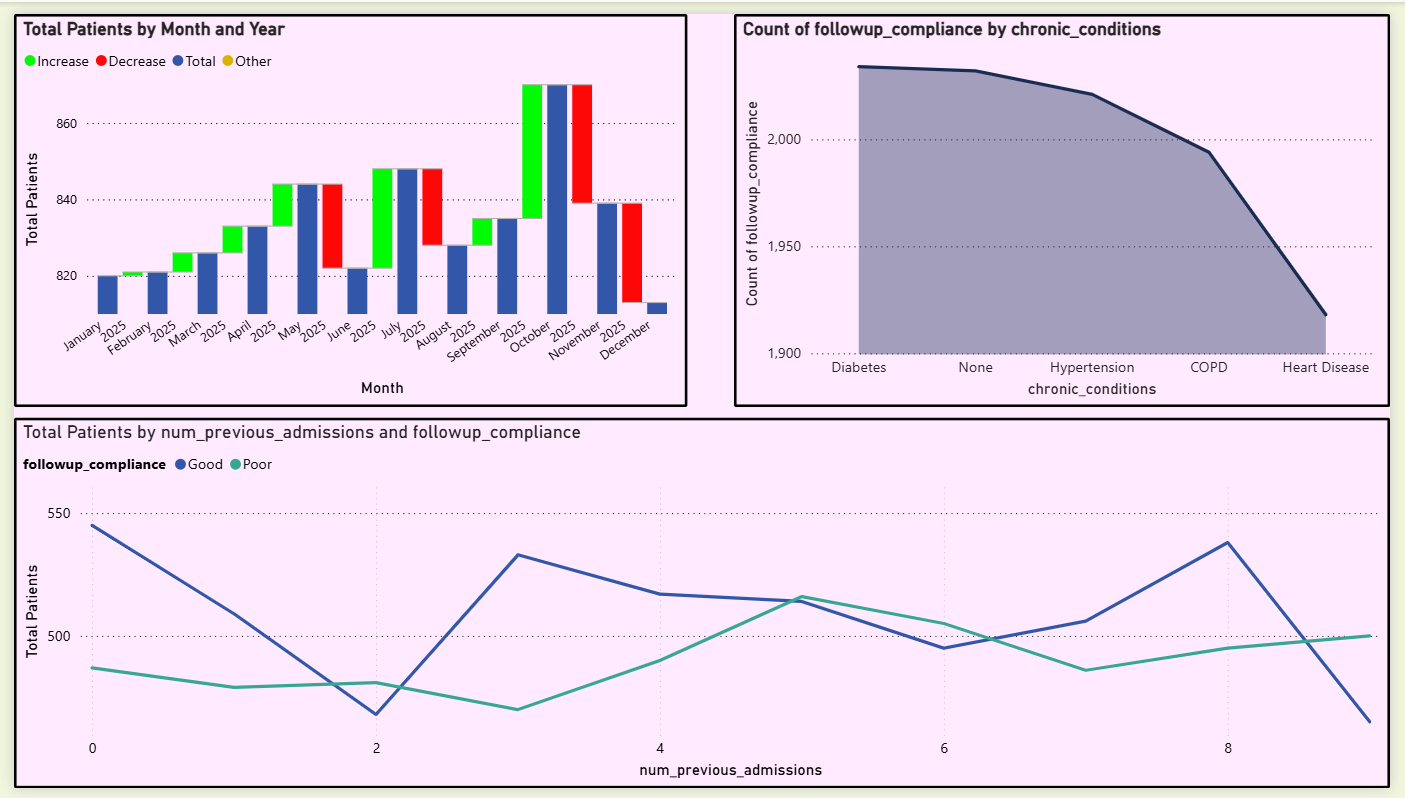

The page's visual inventory and layout, read from the dashboard file:
{"tool":"powerbi","page":{"name":"analysis","canvas":[1280,720],"ordinal":2},"visuals":[{"type":"waterfallChart","fields":{"Breakdown":["Dim_Calendar.Year"],"Category":["hospital_readmission_risk_10000.Discharge_Date.Variation.Date Hierarchy.Month"],"Y":["Table.Total Patients"]},"box":[0,0,626.1,365.6],"z":0},{"type":"areaChart","fields":{"Category":["hospital_readmission_risk_10000.chronic_conditions"],"Y":["CountNonNull(hospital_readmission_risk_10000.followup_compliance)"]},"box":[670.1,0,610.2,365.6],"z":1},{"type":"lineChart","fields":{"Category":["hospital_readmission_risk_10000.num_previous_admissions"],"Series":["hospital_readmission_risk_10000.followup_compliance"],"Y":["Table.Total Patients"]},"box":[0,375.4,1280.3,344.8],"z":2}]}

Visuals, with their boxes in screenshot pixels (x1, y1, x2, y2), scaled from the page's 1280x720 canvas onto the 1405x798 screenshot:
waterfallChart - Dim_Calendar.Year x hospital_readmission_risk_10000.Discharge_Date.Variation.Date Hierarchy.Month: left=0, top=0, right=687, bottom=405
areaChart - hospital_readmission_risk_10000.chronic_conditions x CountNonNull(hospital_readmission_risk_10000.followup_compliance): left=736, top=0, right=1404, bottom=405
lineChart - hospital_readmission_risk_10000.num_previous_admissions x hospital_readmission_risk_10000.followup_compliance: left=0, top=416, right=1404, bottom=797
